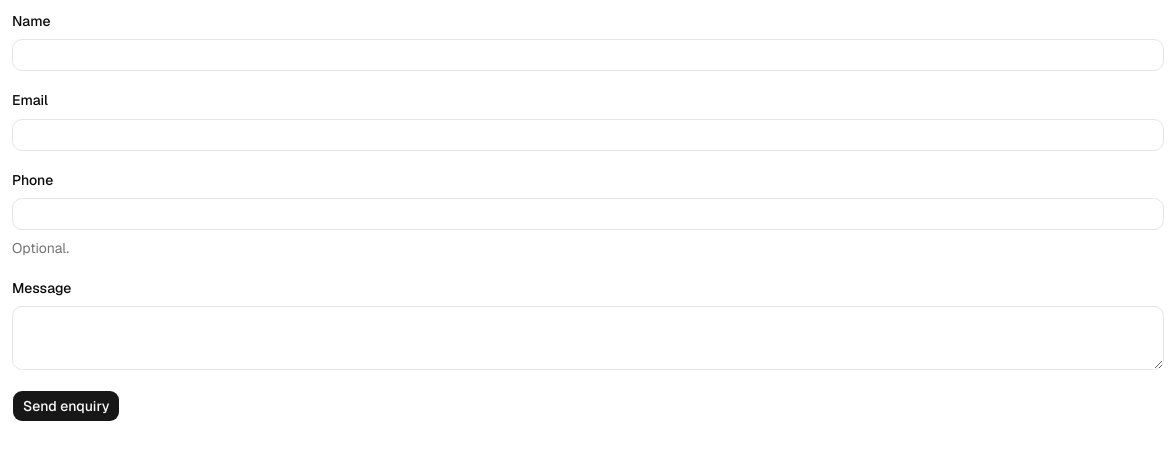
InquiryForm › marks fields invalid and shows the message from a failed action
Type "Ada Lovelace" into the field labelled "Name".
click(588, 55); type("Ada Lovelace")  # box [12, 39, 1164, 71]
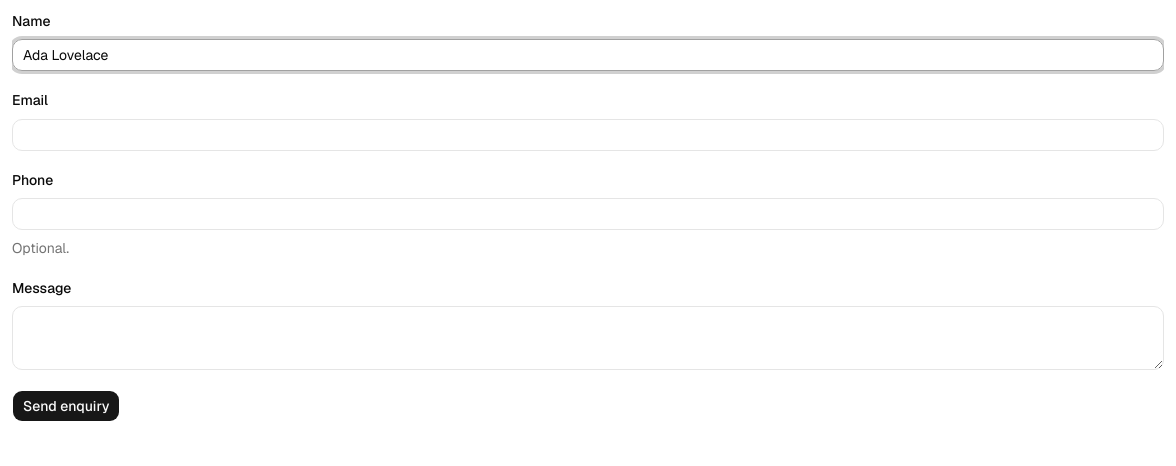
Type "ada@example.com" into the field labelled "Email".
click(588, 134); type("ada@example.com")  # box [12, 118, 1164, 150]
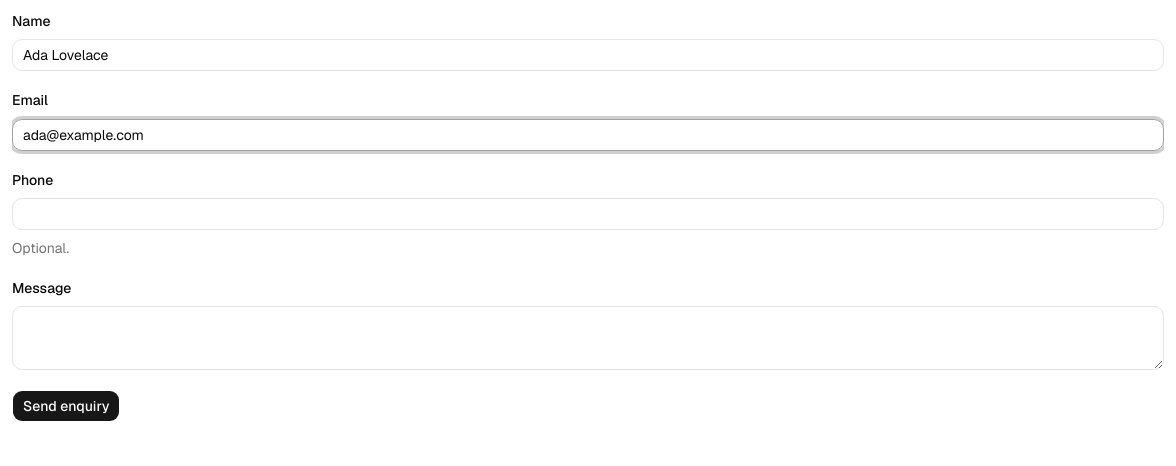
Type "Arrange a sea trial please." into the text box labelled "Message".
click(588, 338); type("Arrange a sea trial please.")  # box [12, 306, 1164, 370]
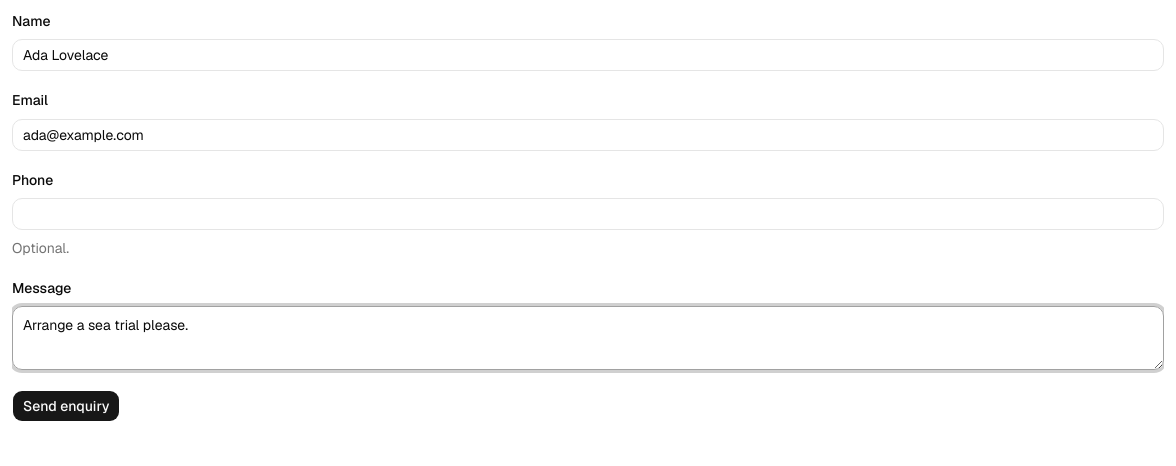
Click the button "Send enquiry".
click(66, 406)  # box [12, 390, 120, 422]
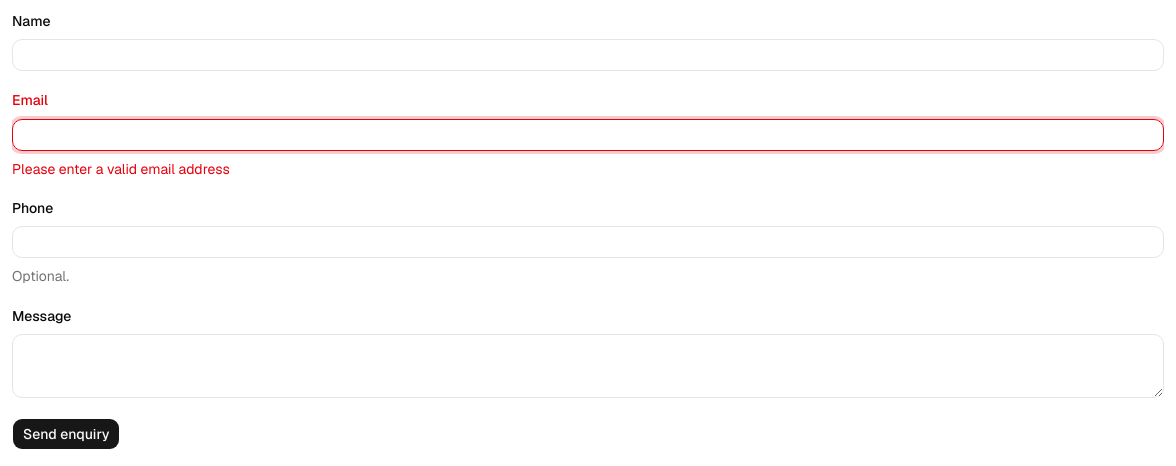
Check: the text "Please enter a valid email address" is shown, box [12, 160, 230, 178]
